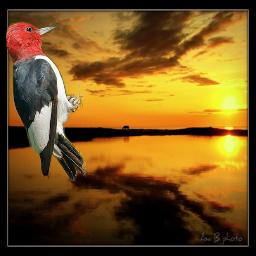Woodpecker: (6, 20, 88, 181)
